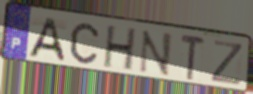A: (26, 16, 67, 64)
C: (69, 21, 101, 66)
H: (101, 25, 139, 73)
N: (137, 29, 174, 78)
T: (180, 33, 207, 82)
Z: (208, 39, 245, 87)
